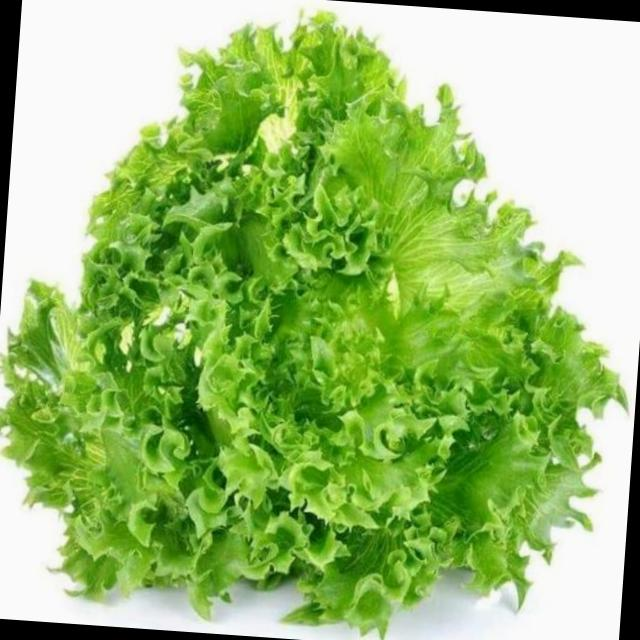Lettuce-Ready-to-Harvest: (0, 14, 623, 633)
